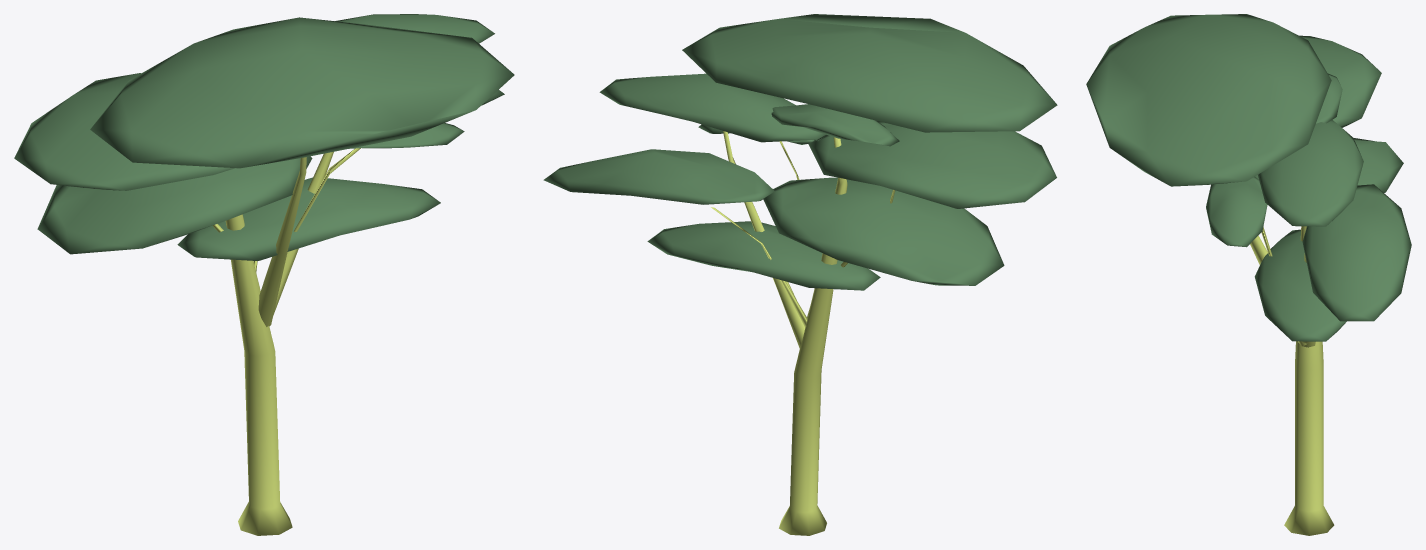
Rendered from Me_FeverTree.fbx.
3 views of the same model, side by side, from view 1: azimuth 30°, elevation 25°; view 2: azimuth 150°, elevation 25°; view 3: azimuth 270°, elevation 25° (orthographic). The views are drawn at different scales.
Parts seen in each view (by area): view 1: Cylinder; view 2: Cylinder; view 3: Cylinder.
Part boxes in pixels (left/top/right/bottom): Cylinder: left=14, top=14, right=514, bottom=535; Cylinder: left=543, top=14, right=1057, bottom=535; Cylinder: left=1086, top=14, right=1411, bottom=535.
Bounding box in the file's own units: 613 × 599 × 382.
